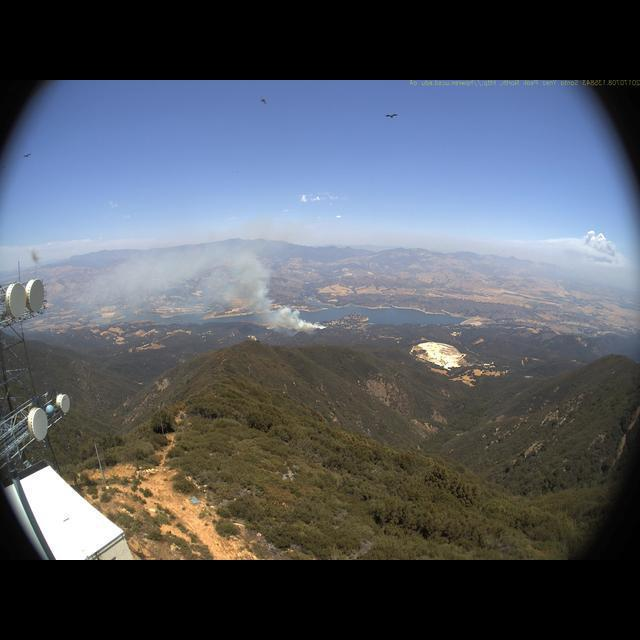Smoke: (115, 241, 331, 334)
